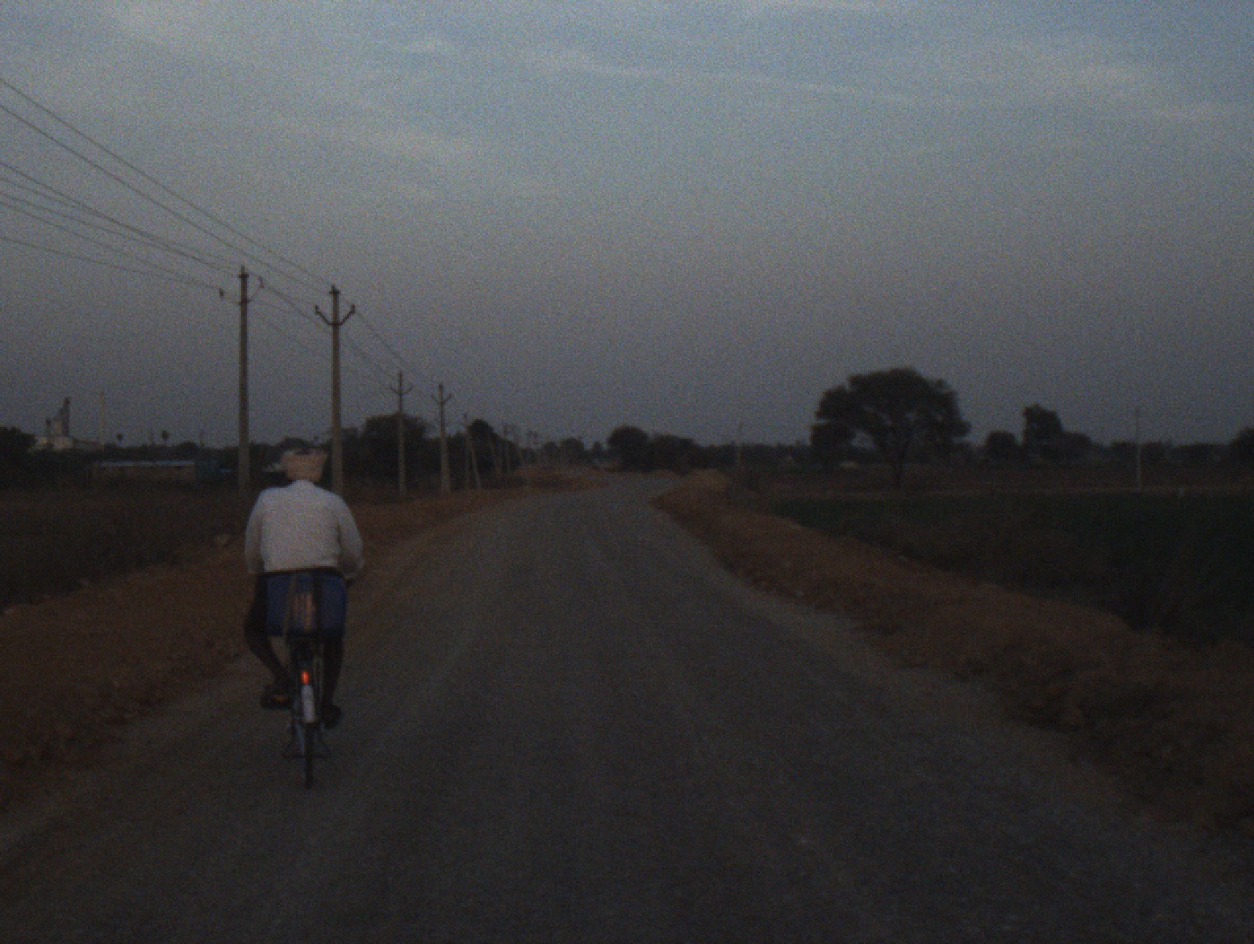bicycle: (249, 563, 353, 786)
rider: (241, 436, 358, 740)
